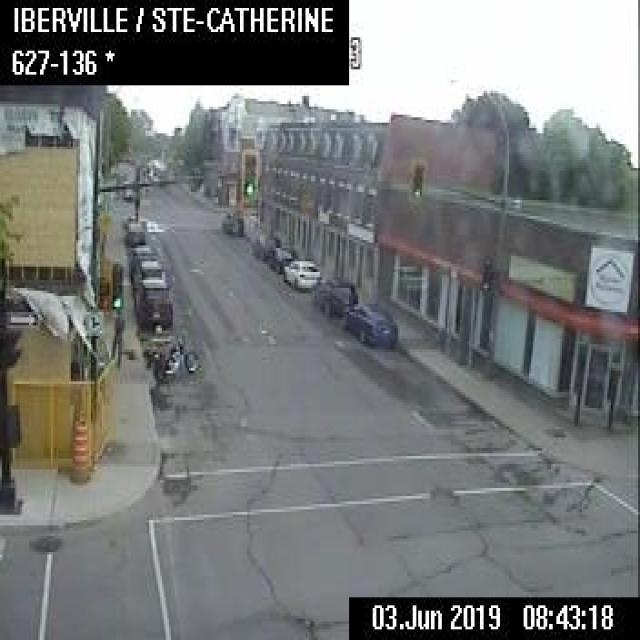construction: (69, 415, 89, 480)
pedestrian: (107, 307, 123, 366)
vehicle: (142, 332, 201, 382), (342, 299, 395, 347), (134, 276, 171, 328), (311, 275, 356, 315), (130, 257, 163, 292), (281, 257, 319, 287), (124, 242, 154, 278), (249, 227, 279, 257), (265, 243, 297, 270), (220, 209, 242, 234), (124, 219, 144, 244)
